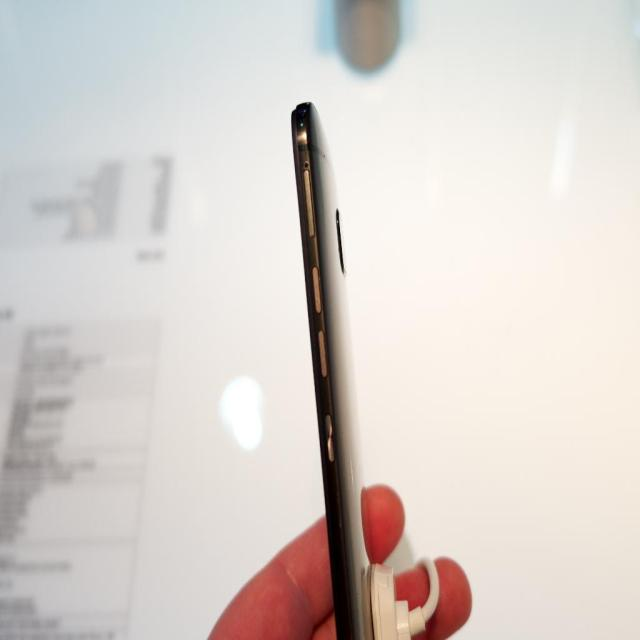Mobile-phone: (293, 102, 374, 639)
